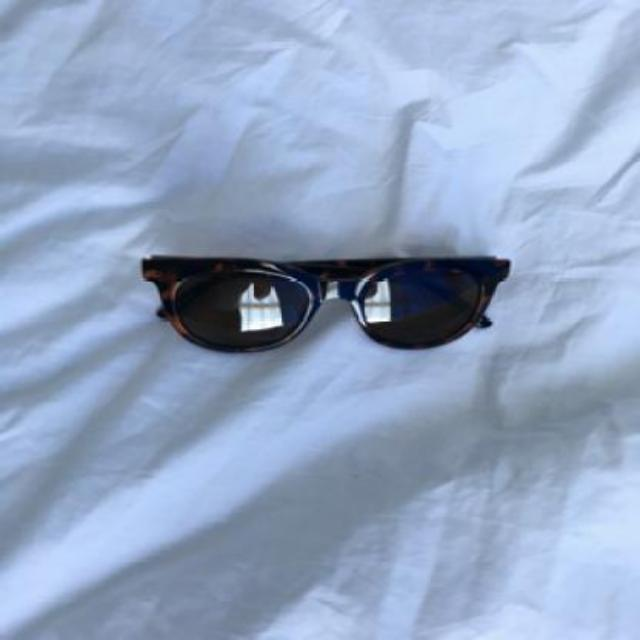sunglasses: (138, 252, 512, 352)
